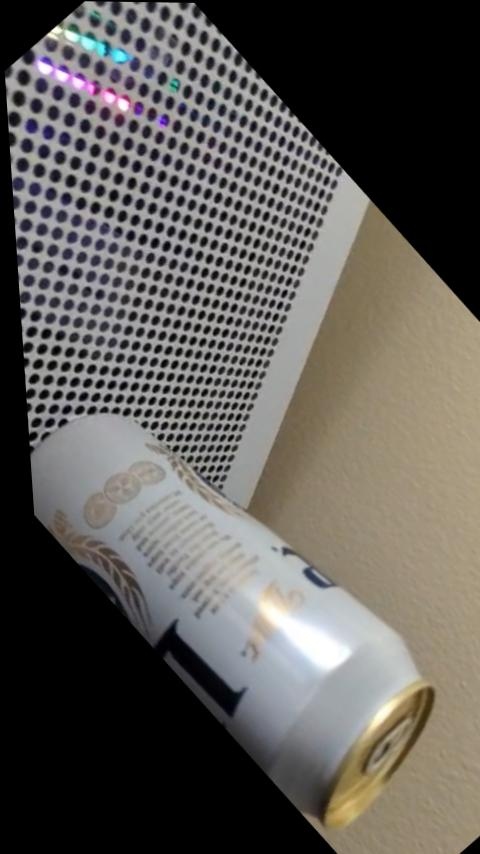metal: (32, 415, 433, 828)
